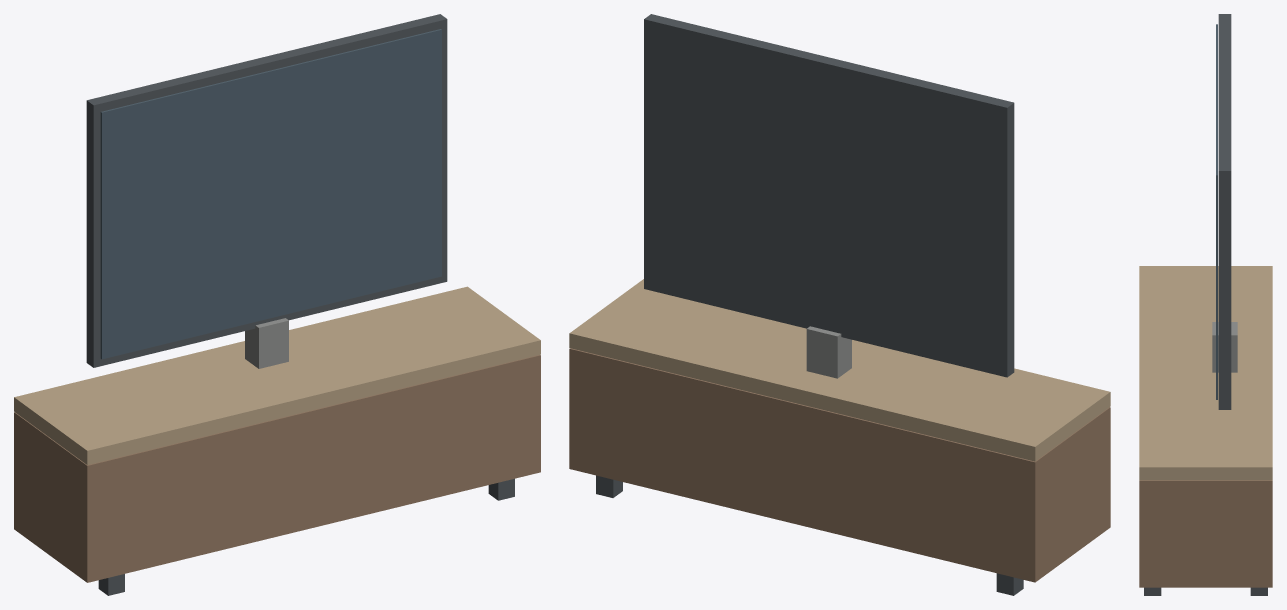
File: tv_stand.glb
The picture shows the model from 3 angles, left to right: view 1: azimuth 30°, elevation 25°; view 2: azimuth 150°, elevation 25°; view 3: azimuth 270°, elevation 25°; orthographic projection. The views are drawn at different scales.
Visible parts, largest first — view 1: tv_screen_glass, tv_cabinet, tv_cabinet_top, tv_screen, tv_stem; view 2: tv_screen, tv_cabinet, tv_cabinet_top, tv_stem; view 3: tv_cabinet_top, tv_cabinet, tv_screen, tv_screen_glass, tv_stem.
Part boxes in pixels (x1,y1,x2,y2): tv_screen_glass: (100, 29, 441, 359); tv_cabinet: (14, 355, 540, 582); tv_cabinet_top: (14, 286, 540, 464); tv_screen: (86, 14, 447, 367); tv_stem: (245, 318, 288, 368); tv_screen: (644, 14, 1014, 377); tv_cabinet: (569, 348, 1110, 582); tv_cabinet_top: (569, 279, 1110, 461); tv_stem: (806, 326, 851, 378); tv_cabinet_top: (1139, 266, 1272, 480); tv_cabinet: (1139, 480, 1272, 587); tv_screen: (1218, 14, 1231, 409); tv_screen_glass: (1216, 24, 1217, 399); tv_stem: (1212, 322, 1237, 372).
Bounding box in the file's own units: 1.5 × 1.43 × 0.42.
